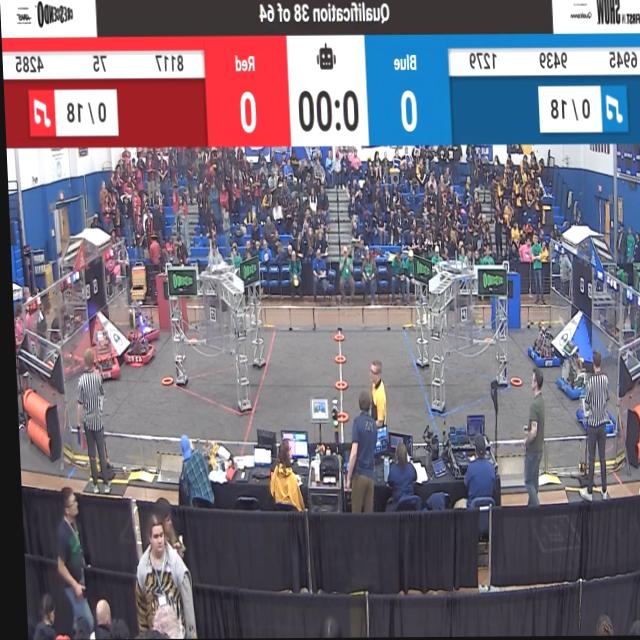Robot: (568, 366, 617, 439), (118, 296, 155, 378), (550, 342, 590, 404), (117, 291, 160, 348), (523, 317, 561, 378), (86, 322, 120, 387)
